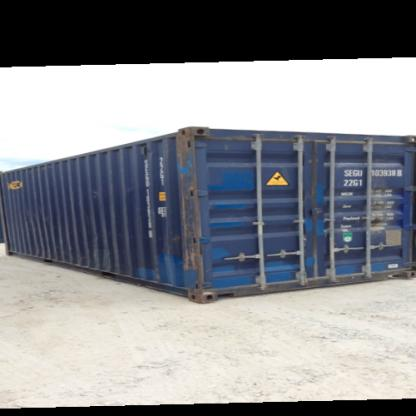Damage: (171, 130, 199, 280), (89, 185, 142, 210), (76, 240, 127, 265)
